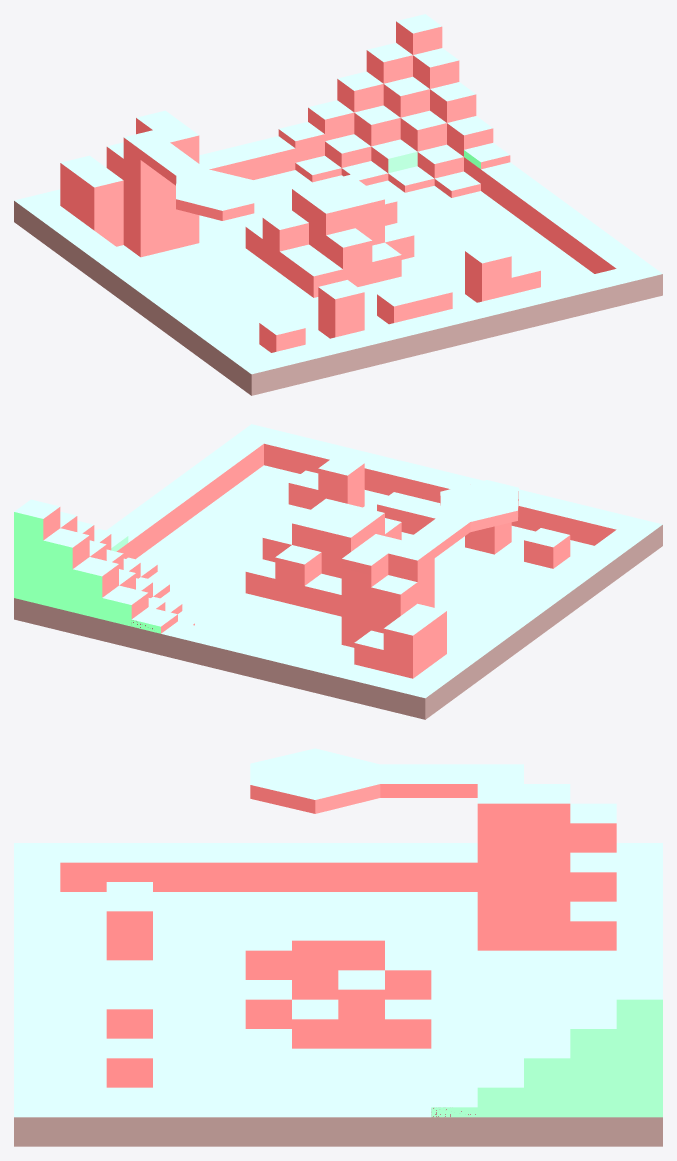
File: grass_cube_level.gltf
The picture shows the model from 3 angles, top to bottom: view 1: azimuth 30°, elevation 25°; view 2: azimuth 150°, elevation 25°; view 3: azimuth 270°, elevation 25°; orthographic projection. The views are drawn at different scales.
Visible parts, largest first — view 1: Grid; view 2: Grid; view 3: Grid.
Part boxes in pixels (x1=…): Grid: x1=14, y1=14, x2=662, y2=395; Grid: x1=14, y1=424, x2=662, y2=719; Grid: x1=14, y1=748, x2=662, y2=1146.
Size of the model in its own units: 20 by 5 by 20.
